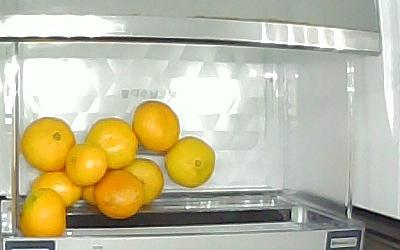tangerine: (21, 117, 76, 173), (85, 118, 138, 171), (165, 135, 217, 188), (93, 169, 146, 219), (133, 101, 180, 155), (20, 188, 67, 238), (122, 158, 164, 205), (66, 144, 109, 188), (30, 172, 82, 207), (83, 184, 96, 206)
